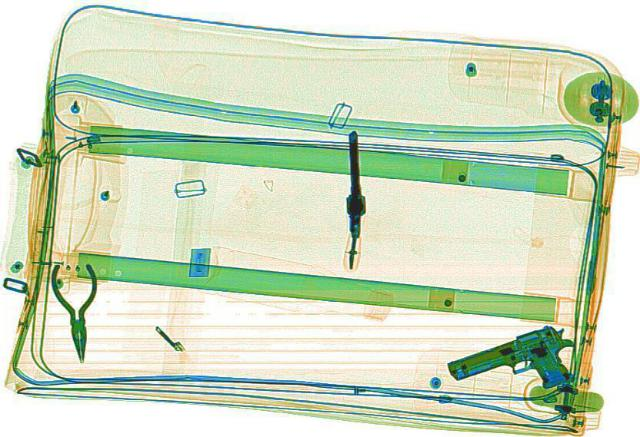Gun: (438, 321, 600, 410)
Pliers: (48, 263, 108, 362)
